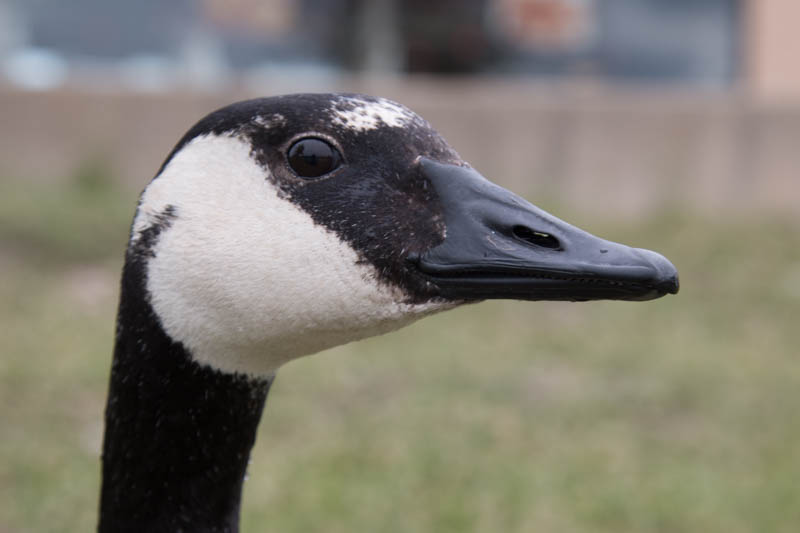goose-head: (124, 94, 679, 378)
